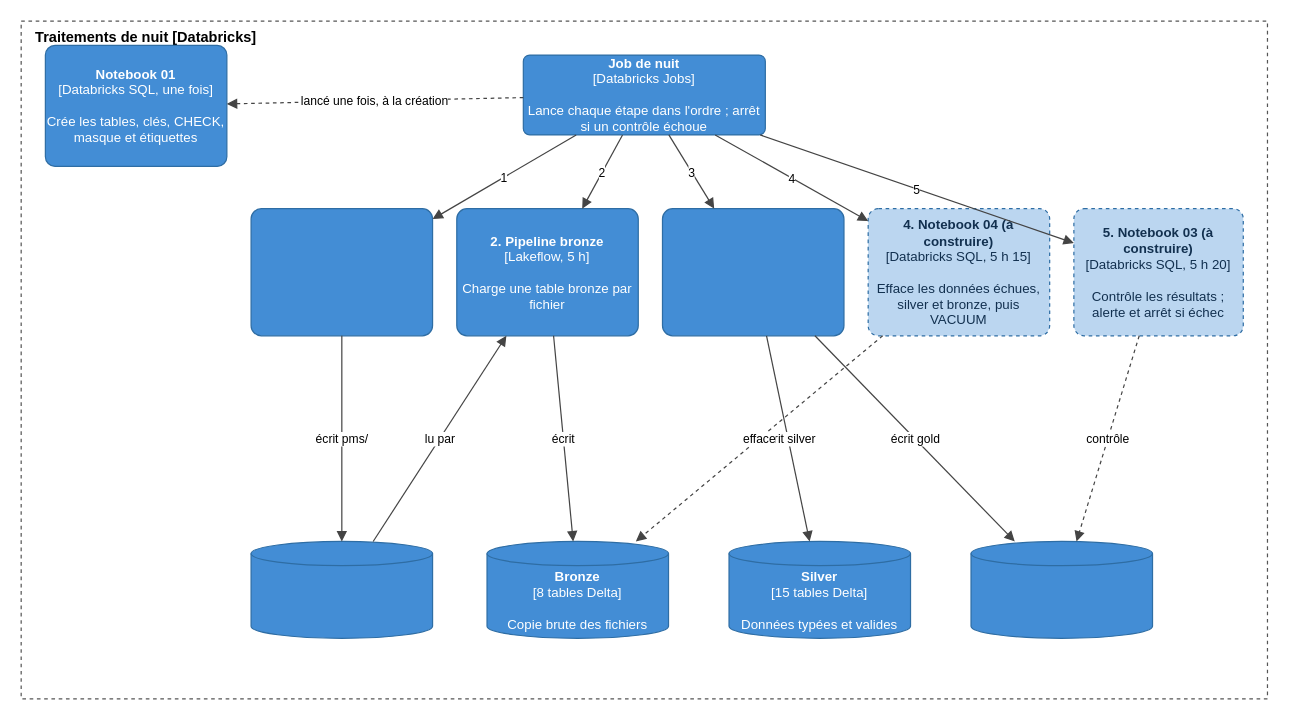
Some shapes in this 1289 by 720 pixel diagram are drawn without their labels. The shapes that lost their labels are listed below. From the top down, each one's centre as x and y in pixels, then its label:
At pixel 341 272: "1. Extraction PMS [Tâche du job, 4 h 30] Copie les tables du PMS dans le dépôt".
At pixel 752 272: "3. Notebook 02 [Databricks SQL, 5 h] Lit le bronze, remplit silver puis gold".
At pixel 341 589: "Dépôt [Volume Unity Catalog] pms/, ota/, iot/, clients/…".
At pixel 1061 589: "Gold [4 tables Delta] Quatre data products".
